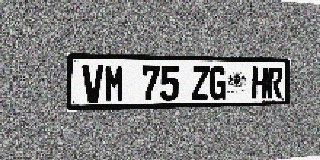5: (160, 66, 179, 101)
7: (141, 65, 160, 102)
G: (209, 66, 226, 100)
H: (252, 67, 268, 99)
M: (104, 65, 125, 102)
R: (267, 67, 283, 99)
V: (82, 64, 104, 103)
Z: (192, 66, 209, 100)
